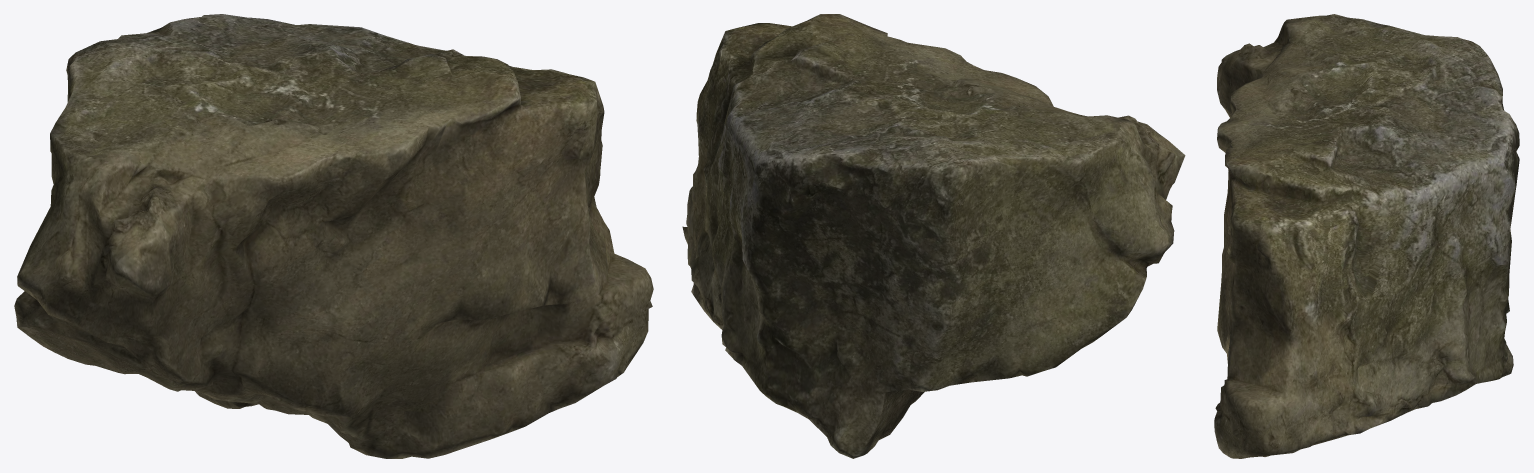
File: rock_moss_02_r13.glb
The picture shows the model from 3 angles, left to right: view 1: azimuth 30°, elevation 25°; view 2: azimuth 150°, elevation 25°; view 3: azimuth 270°, elevation 25°; orthographic projection. The views are drawn at different scales.
Parts seen in each view (by area): view 1: rock_moss_02_r13_LOD0; view 2: rock_moss_02_r13_LOD0; view 3: rock_moss_02_r13_LOD0.
Part boxes in pixels (x1,y1,x2,y2): rock_moss_02_r13_LOD0: (14,14,653,458); rock_moss_02_r13_LOD0: (682,14,1185,458); rock_moss_02_r13_LOD0: (1214,14,1519,458).
Size of what is drawn, in the model's own units: 2.09 by 1.26 by 1.14.
1 material, 1 textured.
